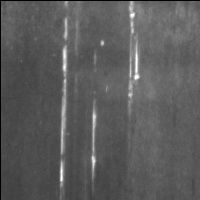scratches: (52, 14, 75, 191), (123, 1, 145, 104), (85, 95, 103, 187)
